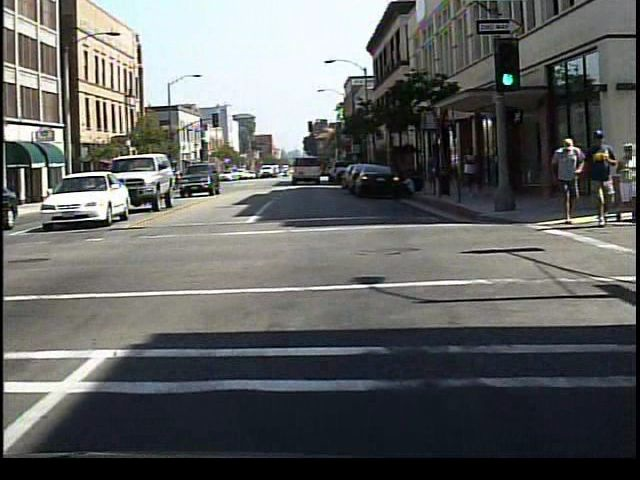person: (545, 134, 587, 229), (588, 125, 617, 230), (609, 139, 638, 223), (458, 144, 487, 203)
